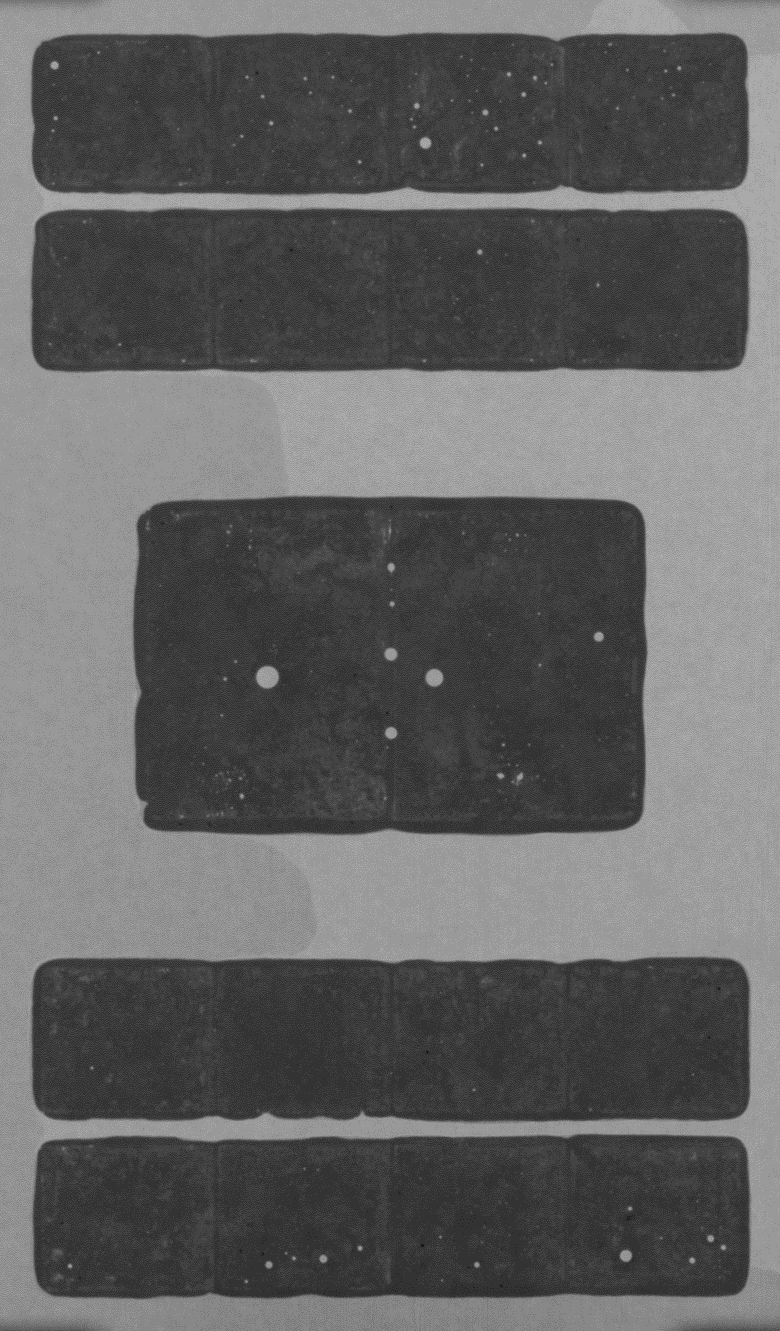CCD: (223, 30, 397, 179), (401, 30, 575, 179), (223, 209, 397, 358), (401, 209, 575, 358), (223, 965, 397, 1114), (401, 965, 575, 1114), (223, 1144, 397, 1293), (401, 1144, 575, 1293), (46, 30, 219, 179), (580, 30, 753, 179), (46, 209, 219, 358), (580, 209, 753, 358), (46, 965, 219, 1114), (580, 965, 753, 1114), (46, 1144, 219, 1293), (580, 1144, 753, 1293)
IOD: (151, 505, 647, 818)
